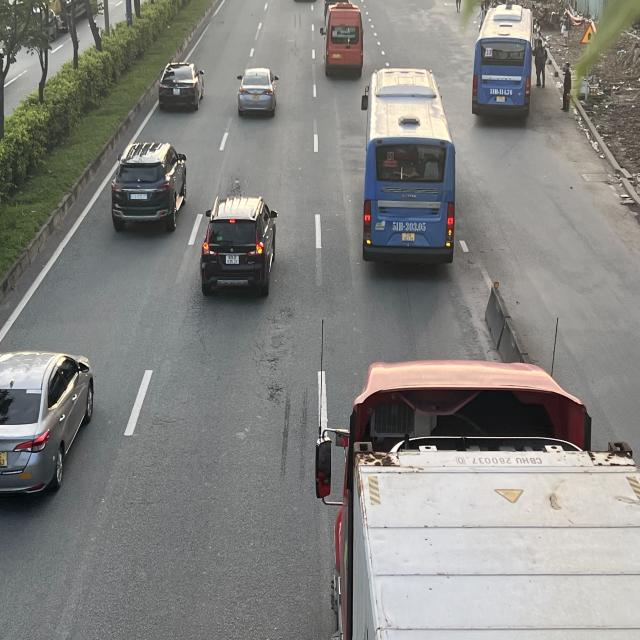car: (2, 351, 97, 497), (197, 196, 277, 296), (111, 141, 189, 229), (160, 60, 207, 112), (238, 67, 282, 117)
coach: (364, 64, 461, 266), (471, 3, 535, 121)
container: (316, 354, 640, 639)
van: (323, 4, 367, 78)
